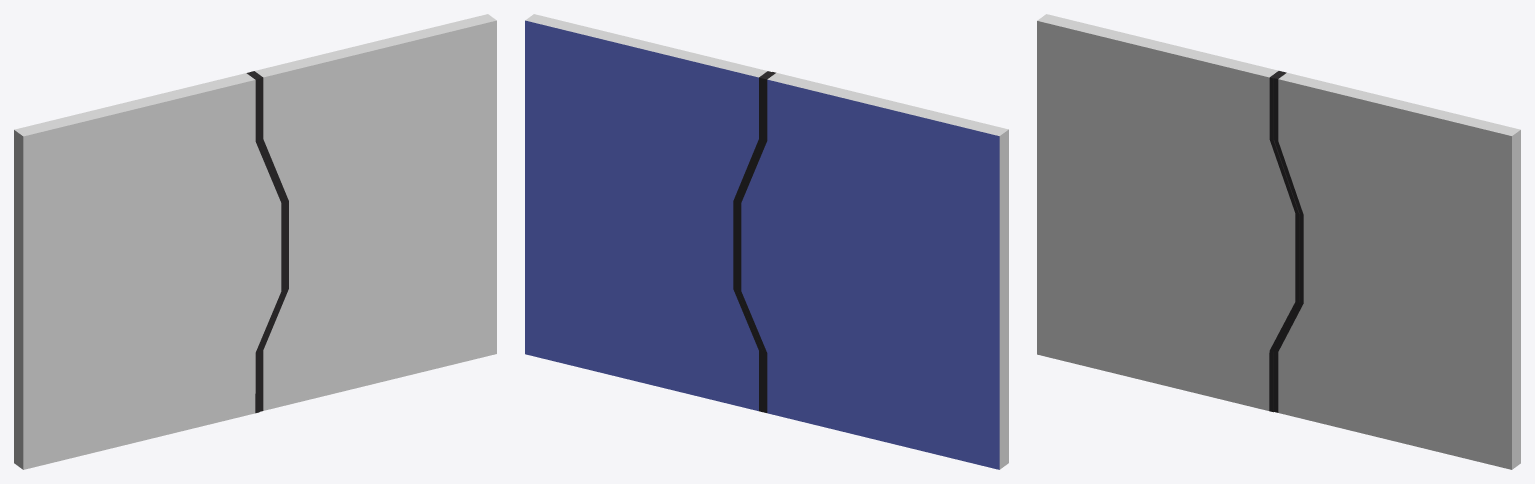
Rendered from DoubleDoor.fbx.
3 renders of one model, left to right at view 1: azimuth 30°, elevation 25°; view 2: azimuth 150°, elevation 25°; view 3: azimuth 330°, elevation 25°, orthographic.
Parts seen in each view (by area): view 1: LeftDoor, RightDoor.002; view 2: LeftDoor, RightDoor.002; view 3: LeftDoor, RightDoor.002.
Part boxes in pixels (x1,y1,x2,y2): LeftDoor: (14, 72, 285, 469); RightDoor.002: (250, 14, 496, 411); LeftDoor: (737, 72, 1008, 469); RightDoor.002: (525, 14, 771, 412); LeftDoor: (1037, 14, 1299, 412); RightDoor.002: (1274, 71, 1520, 469).
Bounding box in the file's own units: 553 × 372 × 18.87.
